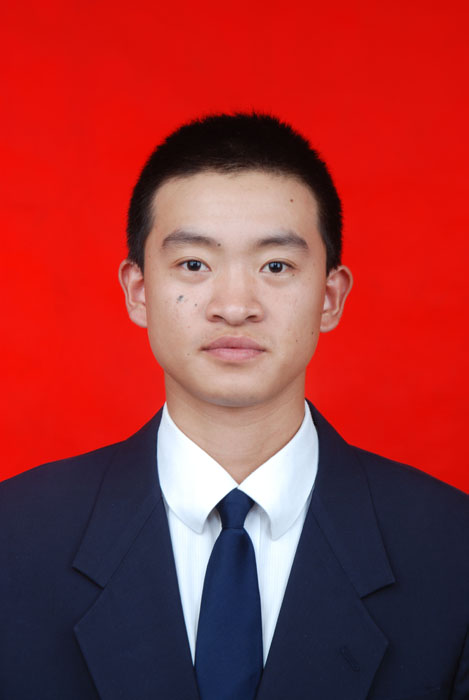unmask: (146, 189, 340, 390)
